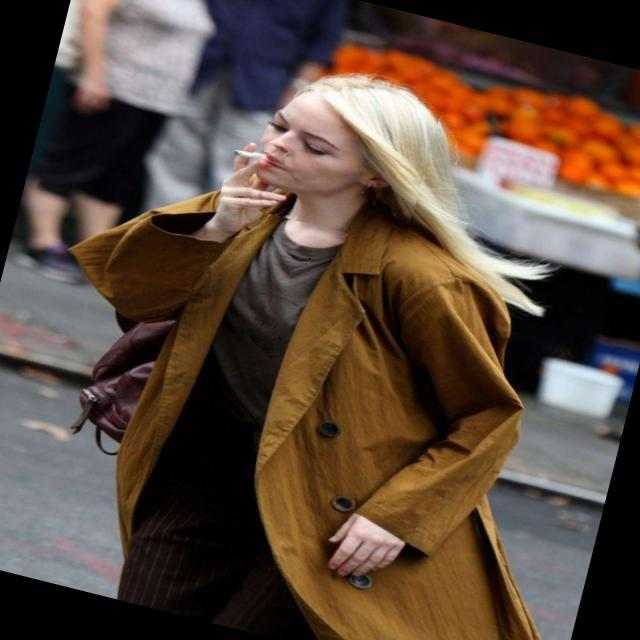cigarette: (218, 132, 288, 168)
